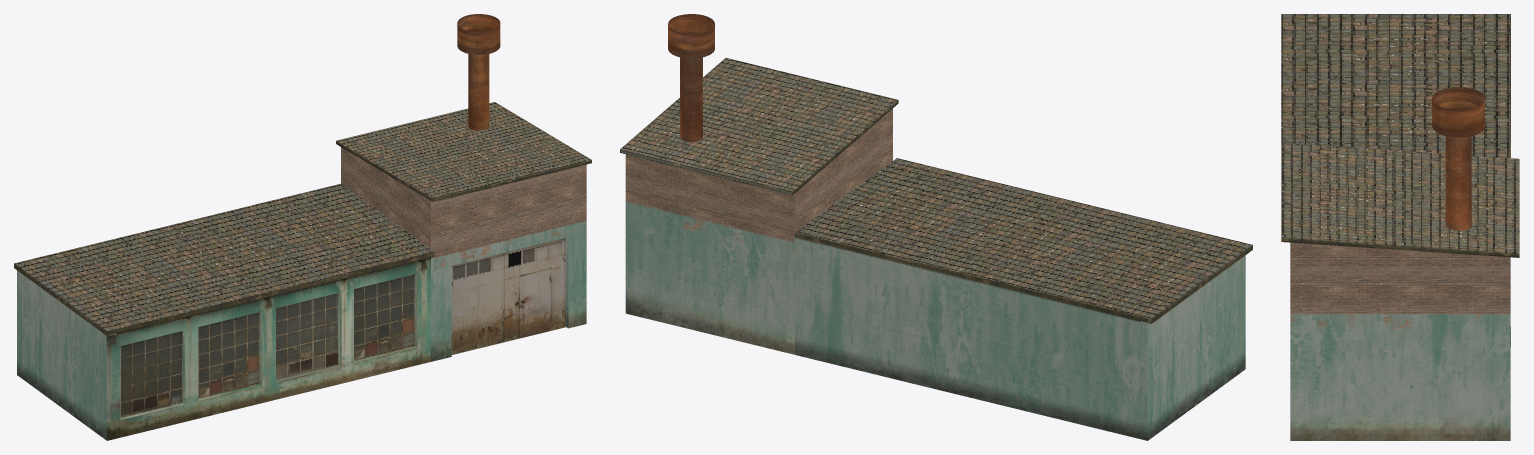
File: ps1_style_workshop.glb
The picture shows the model from 3 angles, left to right: view 1: azimuth 30°, elevation 25°; view 2: azimuth 150°, elevation 25°; view 3: azimuth 270°, elevation 25°; orthographic projection. The views are drawn at different scales.
Parts seen in each view (by area): view 1: Low_Polly 01, Low_Polly 02; view 2: Low_Polly 01, Low_Polly 02; view 3: Low_Polly 02, Low_Polly 01.
Boxes of the visible parts, <box> form: Low_Polly 01: <box>14,183,434,440</box>; Low_Polly 02: <box>336,14,591,361</box>; Low_Polly 01: <box>795,158,1252,440</box>; Low_Polly 02: <box>620,14,898,354</box>; Low_Polly 02: <box>1281,87,1519,440</box>; Low_Polly 01: <box>1281,14,1510,347</box>.
Bounding box in the file's own units: 15.55 × 7.98 × 5.4.
2 materials, 2 textured.
